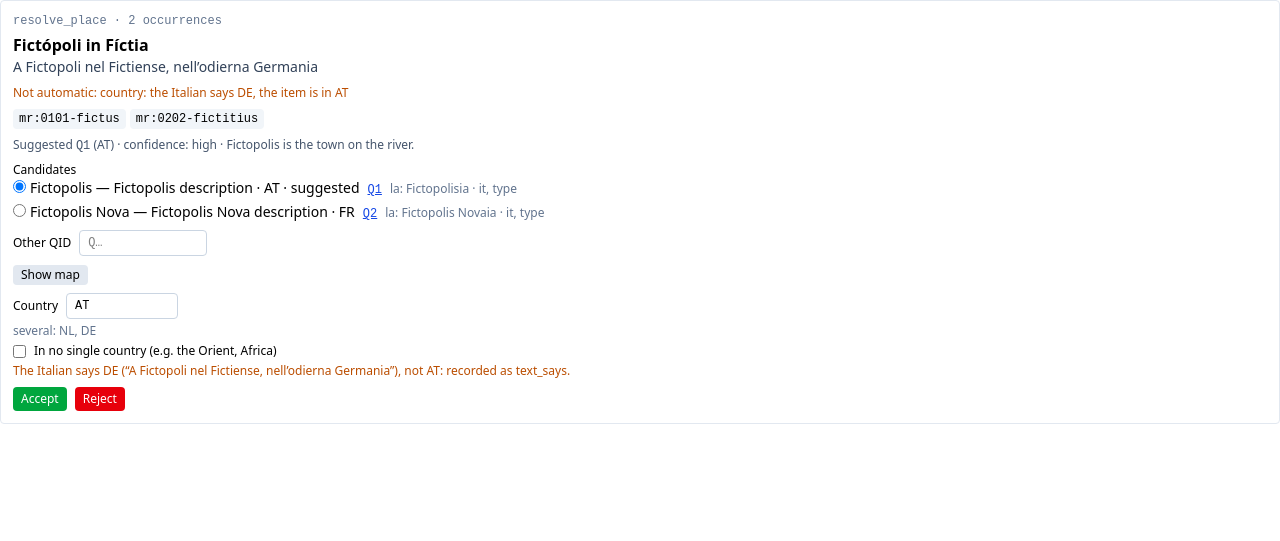
Test: PlaceCard › says so when the occurrence has no Italian 2004 text
Click the button "mr:0202-fictitius" at (197, 119), box [130, 109, 264, 129]
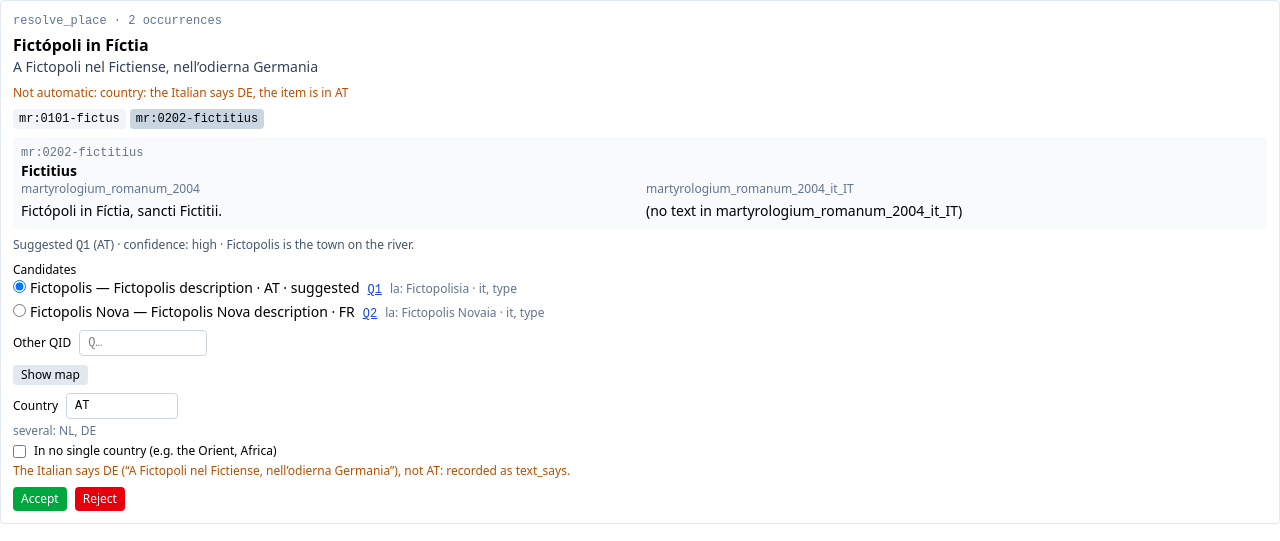
Expected: the text "Fictópoli in Fíctia, sancti Fictitii." is shown, [21, 201, 222, 220]
Expected: the text "(no text in martyrologium_romanum_2004_it_IT)" is shown, [646, 201, 962, 220]
